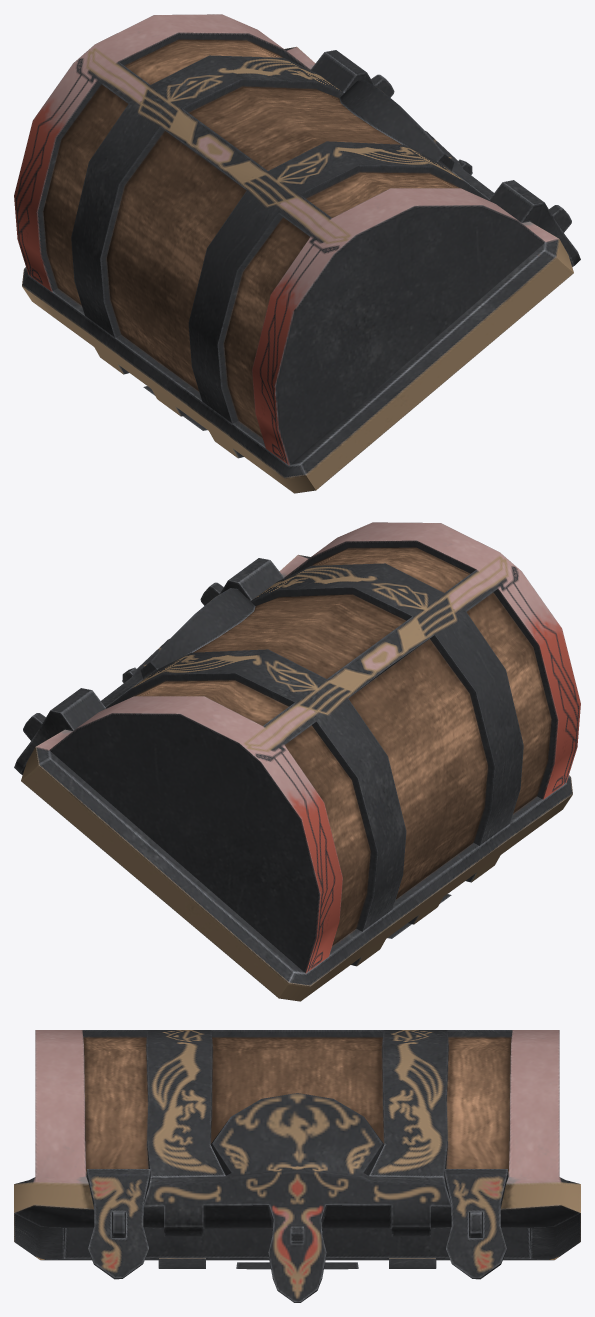
The model's file is Chest_Top.glb.
3 views of the same model, one above another, from view 1: azimuth 30°, elevation 25°; view 2: azimuth 150°, elevation 25°; view 3: azimuth 270°, elevation 25° (orthographic).
Parts seen in each view (by area): view 1: TreasureChest_01 - Default_0.044; view 2: TreasureChest_01 - Default_0.044; view 3: TreasureChest_01 - Default_0.044.
Part boxes in pixels (box(x1,y1,x2,y2)): TreasureChest_01 - Default_0.044: box(14, 14, 580, 493); TreasureChest_01 - Default_0.044: box(14, 522, 580, 1001); TreasureChest_01 - Default_0.044: box(14, 1030, 580, 1302).
Size of the model in its own units: 0.9135 by 0.694 by 1.31.
1 material, 1 textured.
